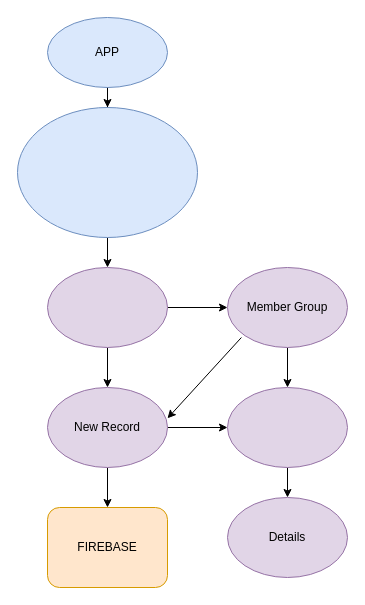
This 365x605 diagram has some shape labels left out. Here are the shapes that lost their labels. From the top down, the centre of each, then its label:
At (x=107, y=172): "Record Navigator Home MemberGroup New Record".
At (x=107, y=307): "Home".
At (x=287, y=427): "Work Record".
